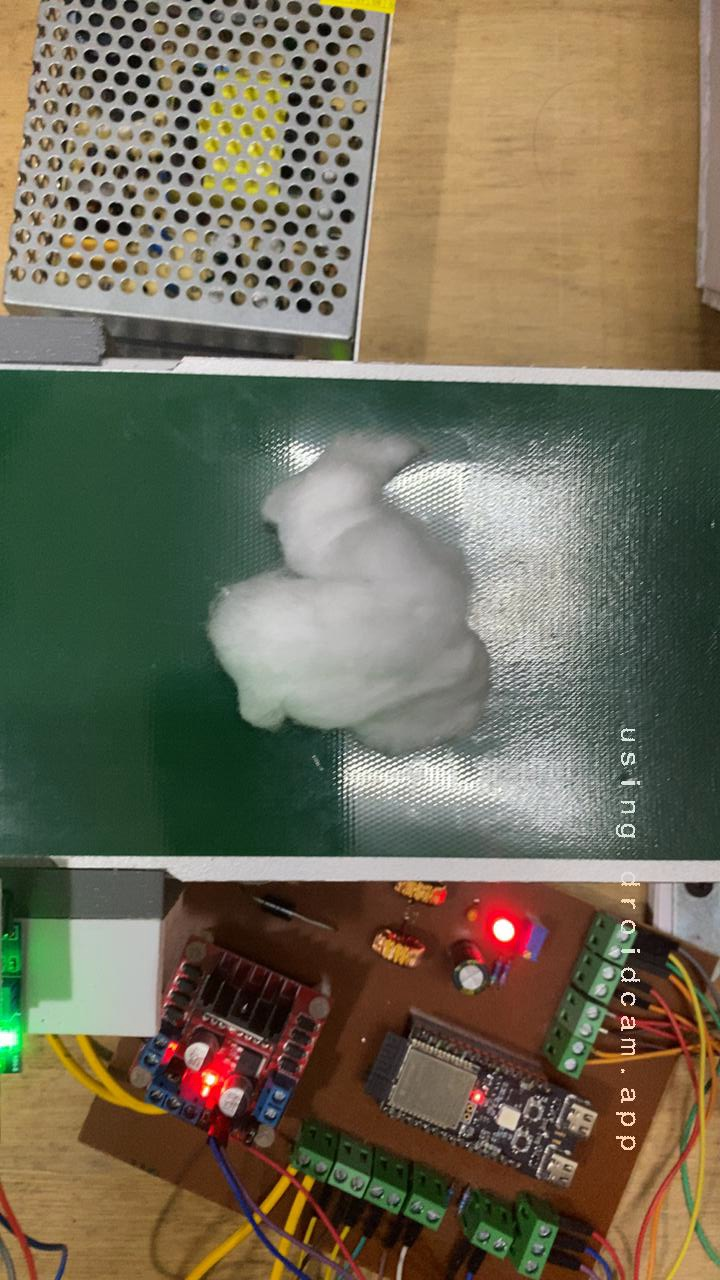cotton: (170, 407, 529, 760)
